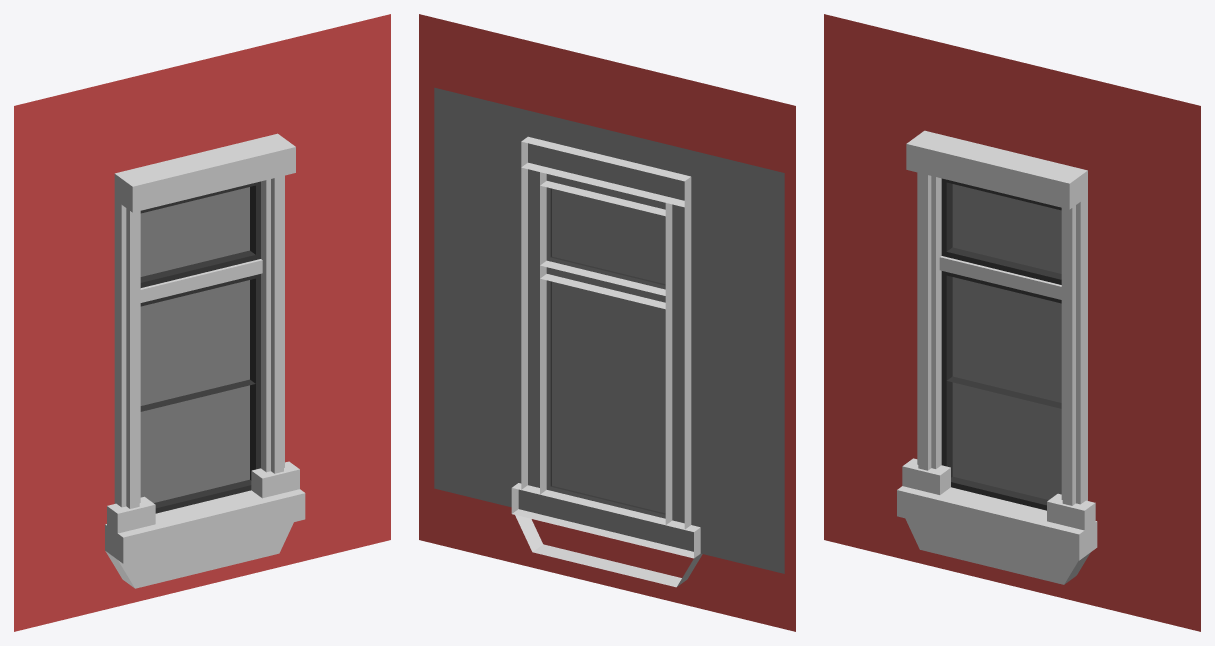
Rendered from object_B1_Top_floor_window.glb.
3 views of the same model, side by side, from view 1: azimuth 30°, elevation 25°; view 2: azimuth 150°, elevation 25°; view 3: azimuth 330°, elevation 25° (orthographic).
Visible parts, largest first — view 1: B1 Top floor window; view 2: B1 Top floor window; view 3: B1 Top floor window.
Boxes of the visible parts, x1,y1,x2,y2 form: B1 Top floor window: (14,14,390,631); B1 Top floor window: (419,14,795,631); B1 Top floor window: (824,14,1200,631).
Bounding box in the file's own units: 3 × 4 × 0.4.
